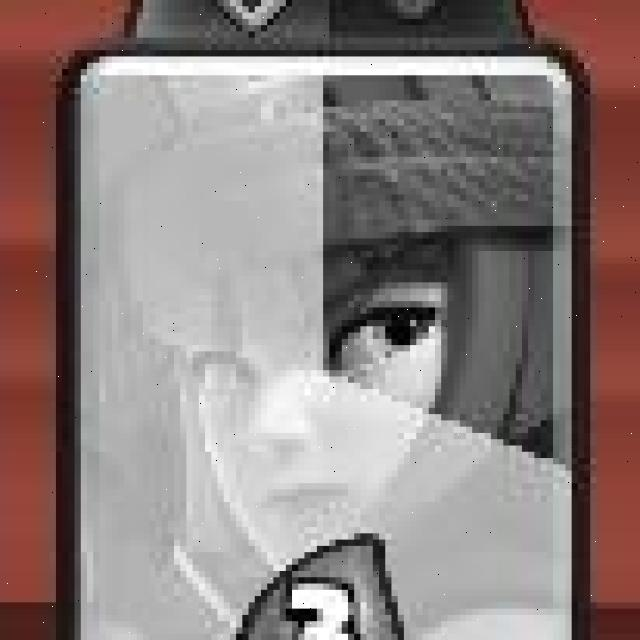Firecracker: (54, 51, 590, 640)
